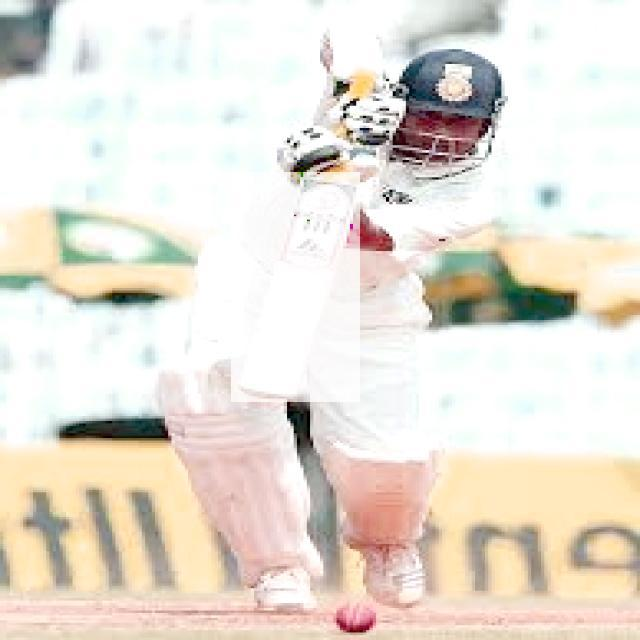bat: (232, 178, 357, 400)
toe: (237, 386, 303, 400)
